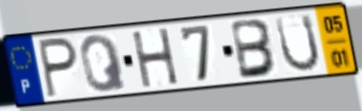7: (179, 23, 214, 84)
B: (229, 17, 280, 82)
H: (129, 26, 182, 91)
P: (36, 35, 80, 100)
Q: (77, 32, 129, 94)
U: (273, 12, 323, 75)
